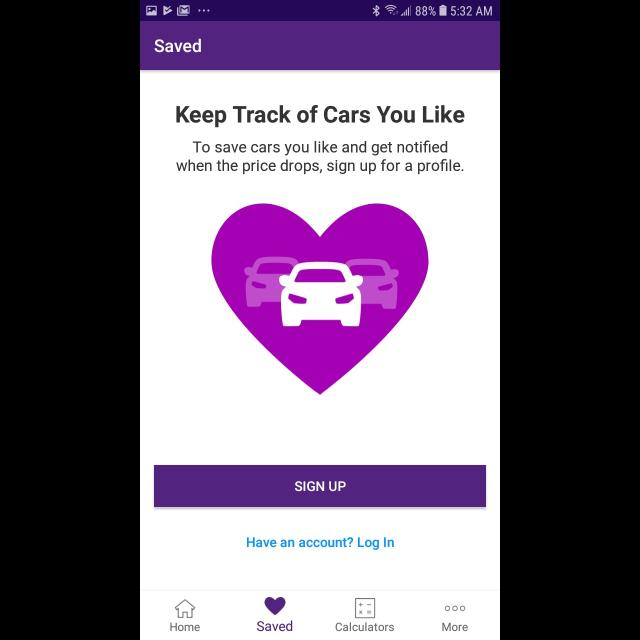icon: (264, 596, 286, 616), (176, 598, 197, 618)
image: (211, 203, 429, 395), (355, 598, 375, 618)
pageindicator: (444, 605, 466, 611)
text: (176, 140, 464, 176), (177, 104, 465, 128), (248, 537, 394, 551), (154, 38, 202, 54), (336, 621, 394, 631), (257, 620, 293, 632), (171, 622, 201, 632), (442, 622, 468, 632)
textbutton: (154, 465, 486, 507)
uppertaskbar: (140, 1, 500, 22)
